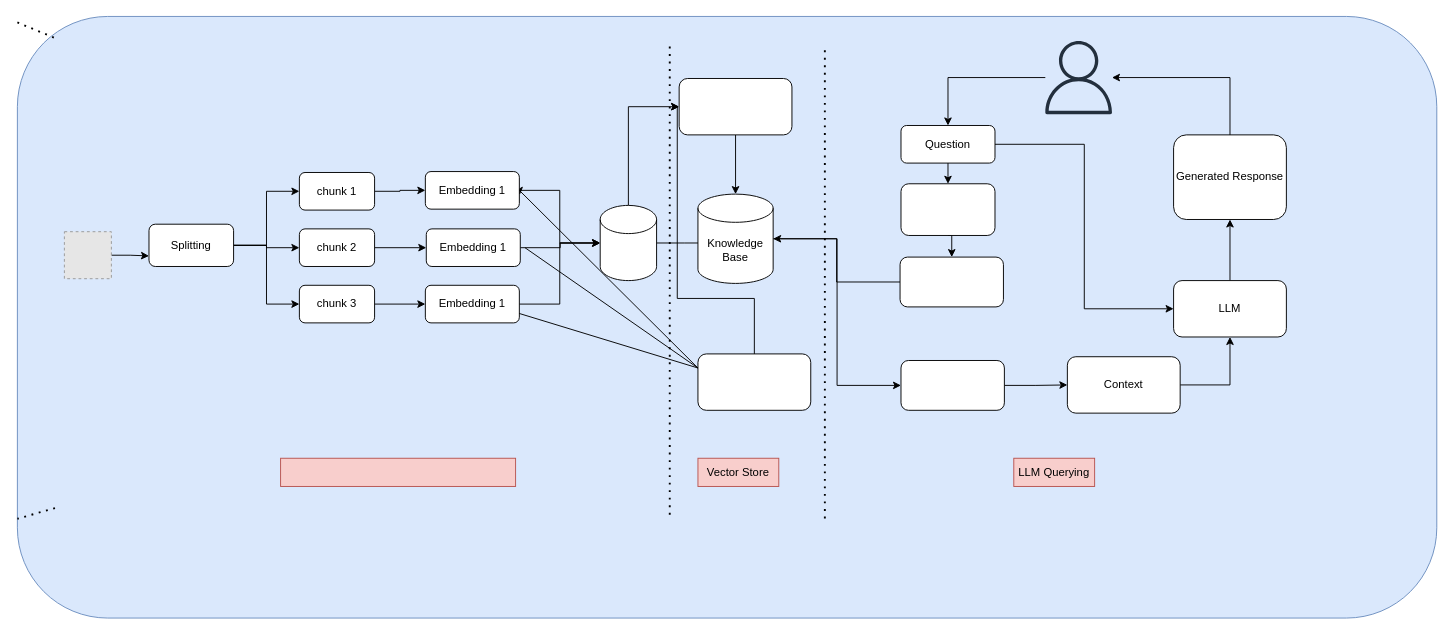
Some shapes in this 1453 by 635 pixel diagram are drawn without their labels. Grey dashed boxes stand in for pictures. Here are the shapes that lost their labels. From the top down, the box of each, then its label:
(678, 78, 792, 135): Ensemble Retriever
(900, 183, 995, 235): Compute Embedding
(599, 204, 657, 281): Build Semantic Index
(899, 256, 1003, 307): Semantic Search
(697, 353, 811, 410): Keyword Search
(900, 360, 1004, 410): Reranked Results
(280, 457, 516, 486): Text Splitting and Embedding
